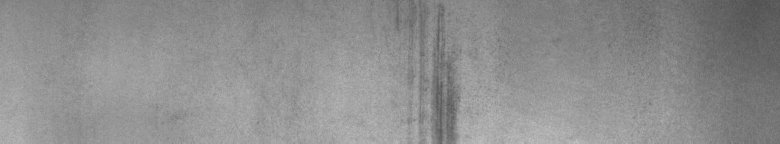ka: (396, 5, 465, 136)
